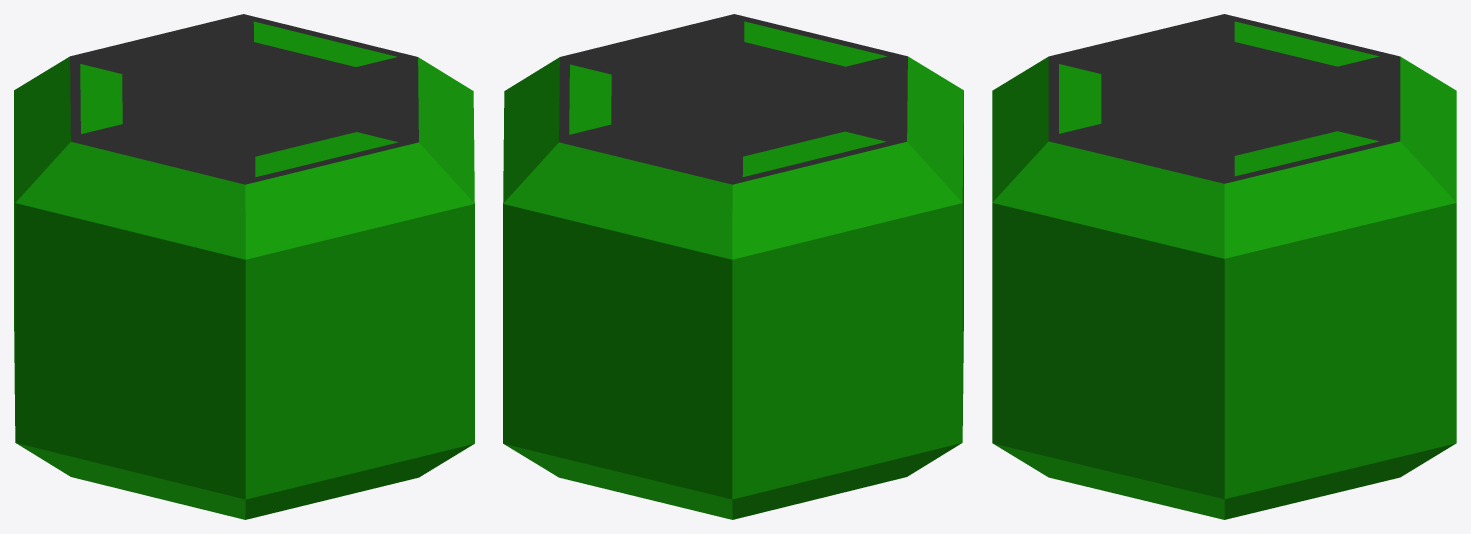
File: SM_Module_Armour1_BO.fbx
The picture shows the model from 3 angles, left to right: view 1: azimuth 30°, elevation 25°; view 2: azimuth 150°, elevation 25°; view 3: azimuth 270°, elevation 25°; orthographic projection.
Visible parts, largest first — view 1: SM_Module_Armour1_BO; view 2: SM_Module_Armour1_BO; view 3: SM_Module_Armour1_BO.
Part boxes in pixels (bbox=[...]): SM_Module_Armour1_BO: bbox=[14, 14, 474, 519]; SM_Module_Armour1_BO: bbox=[503, 14, 963, 519]; SM_Module_Armour1_BO: bbox=[992, 14, 1456, 519].
Size of the model in its own units: 4 by 3.5 by 2.8.
